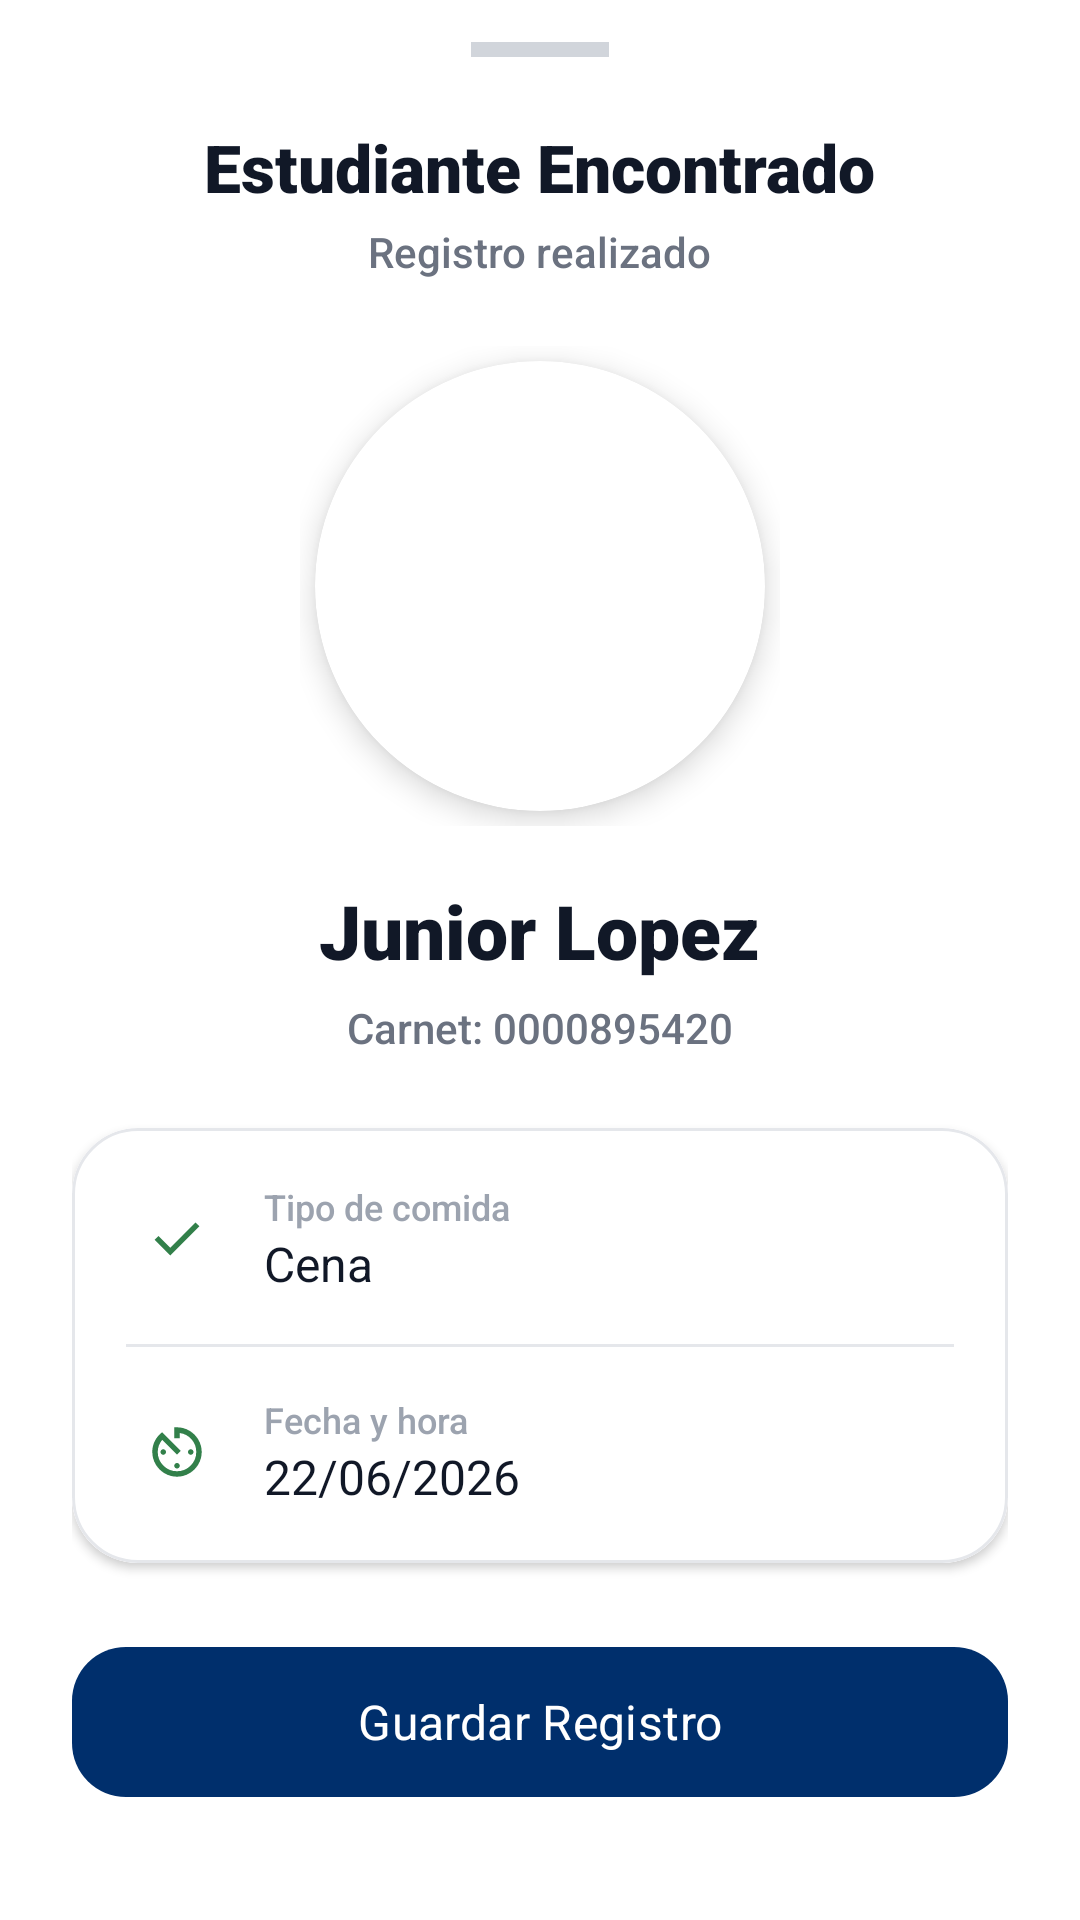

Screen size 1080*1920. Icon name, then its center in pixels as (x=x, y=y):
av timer: (x=177, y=1452)
check: (x=177, y=1239)
